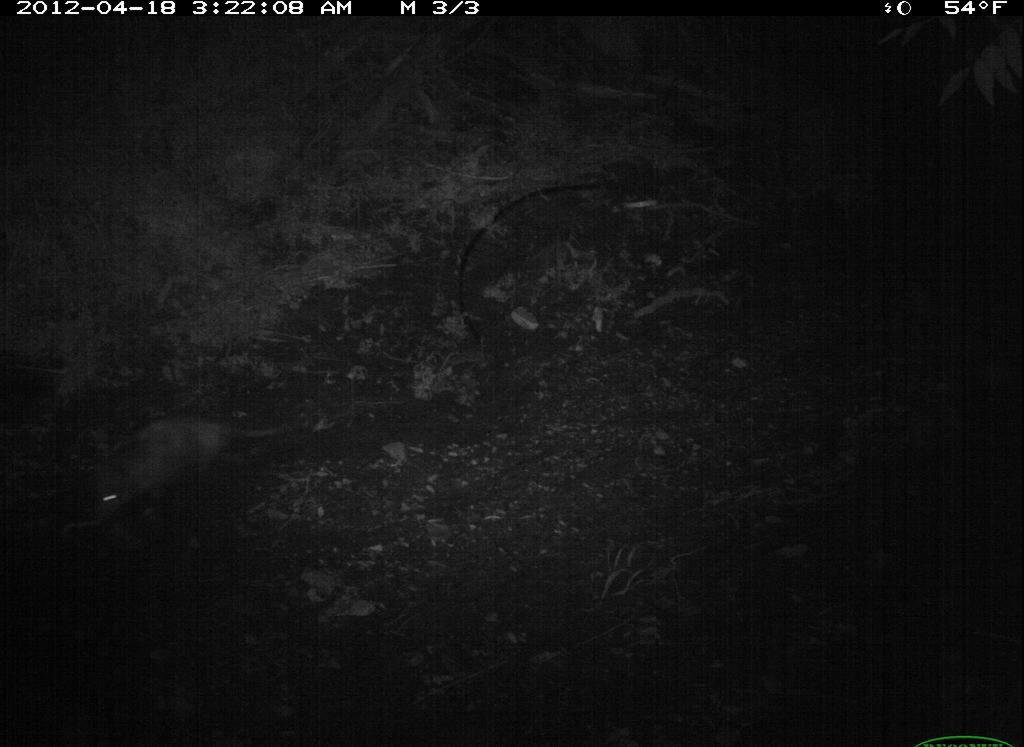opossum: (67, 405, 308, 518)
